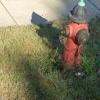a fire hydrant: (61, 0, 89, 68)
